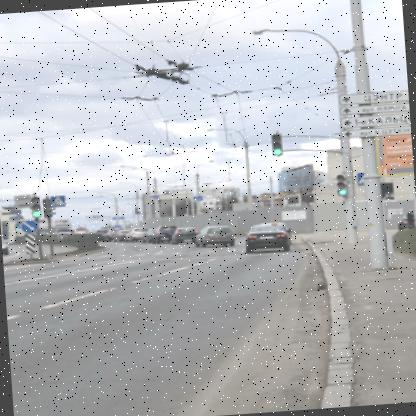crosswalk: (354, 171, 364, 185)
trafficlight: (266, 131, 282, 156), (333, 171, 347, 194), (26, 195, 40, 217), (42, 196, 53, 217)
